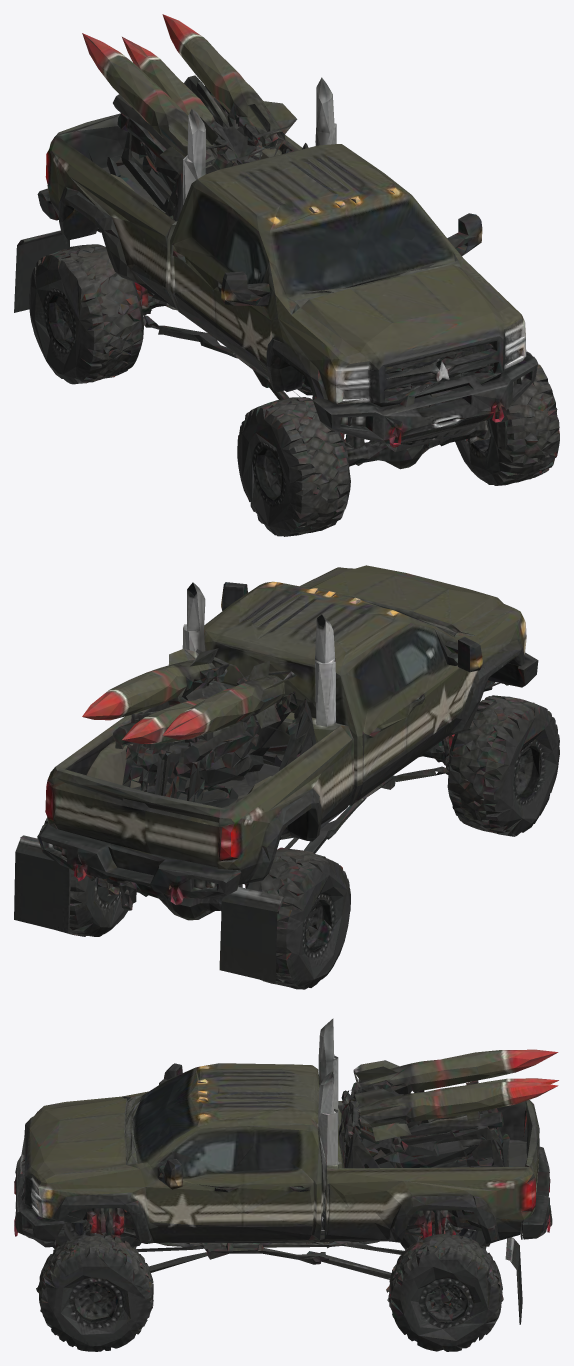
File: missile_commander.glb
The picture shows the model from 3 angles, top to bottom: view 1: azimuth 30°, elevation 25°; view 2: azimuth 150°, elevation 25°; view 3: azimuth 270°, elevation 25°; orthographic projection. The views are drawn at different scales.
Visible parts, largest first — view 1: body, wheel_RR_mesh, wheel_FR_mesh, wheel_FL_mesh; view 2: body, wheel_FR_mesh, wheel_RR_mesh, wheel_RL_mesh; view 3: body, wheel_FL_mesh, wheel_RL_mesh, wheel_FR_mesh, wheel_RR_mesh.
Part boxes in pixels (x1,y1,x2,y2): body: [14, 14, 537, 469]; wheel_RR_mesh: [29, 244, 143, 384]; wheel_FR_mesh: [237, 393, 350, 536]; wheel_FL_mesh: [455, 351, 559, 485]; body: [14, 565, 538, 983]; wheel_FR_mesh: [447, 695, 559, 836]; wheel_RR_mesh: [245, 847, 350, 989]; wheel_RL_mesh: [37, 817, 128, 936]; body: [14, 1018, 558, 1324]; wheel_FL_mesh: [36, 1221, 153, 1351]; wheel_RL_mesh: [386, 1224, 503, 1351]; wheel_FR_mesh: [53, 1223, 141, 1248]; wheel_RR_mesh: [400, 1227, 489, 1249].
Size of the model in its own units: 3.34 by 3.6 by 6.95.
1 material, 1 textured.
